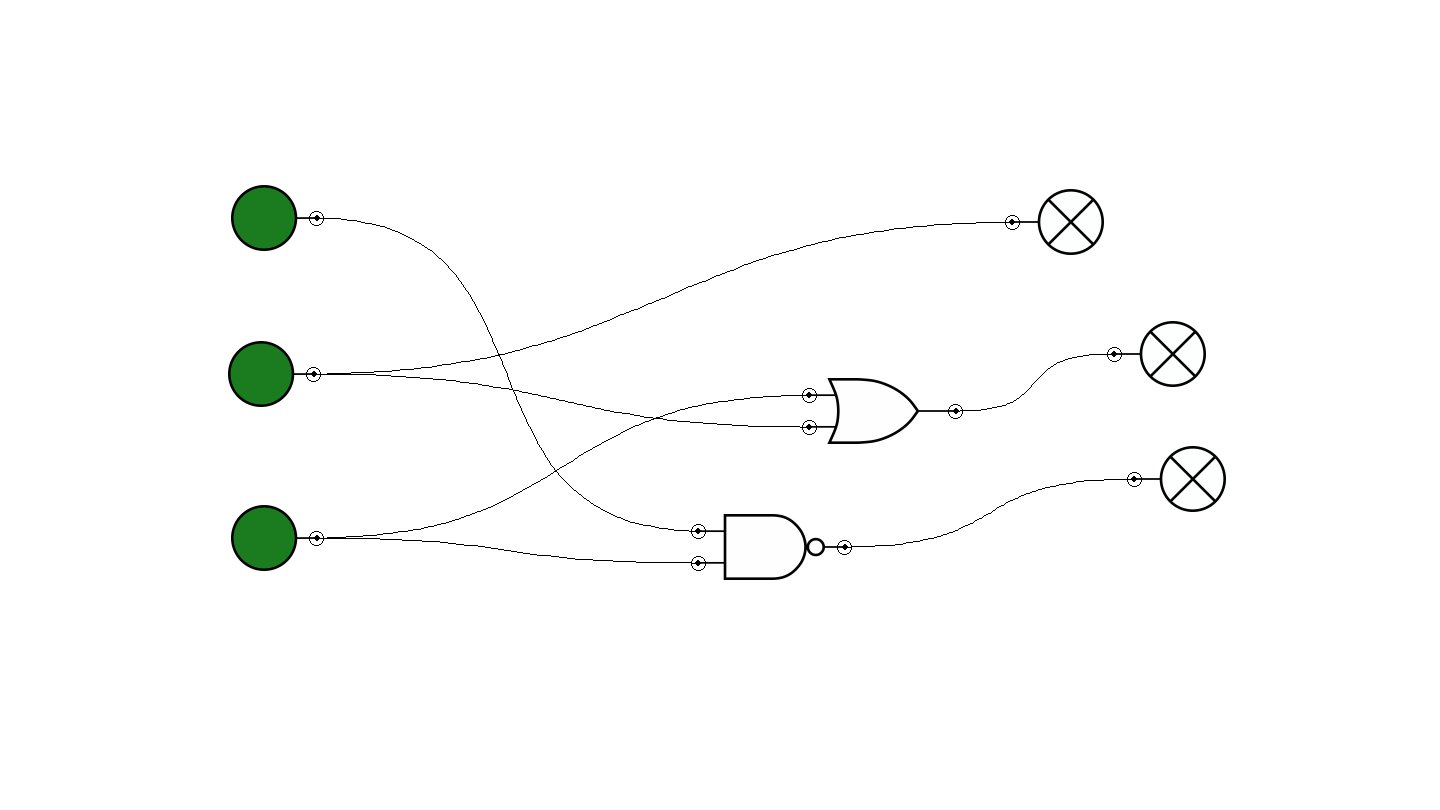bulb: (1107, 321, 1206, 387), (1005, 189, 1104, 255), (1127, 446, 1226, 512)
nand: (691, 514, 852, 580)
or: (802, 378, 963, 444)
switch_True: (228, 341, 321, 407), (231, 505, 324, 571), (231, 185, 324, 251)
